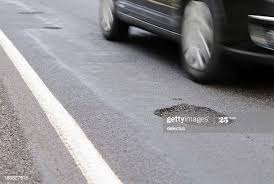pothole: (153, 104, 239, 130)
